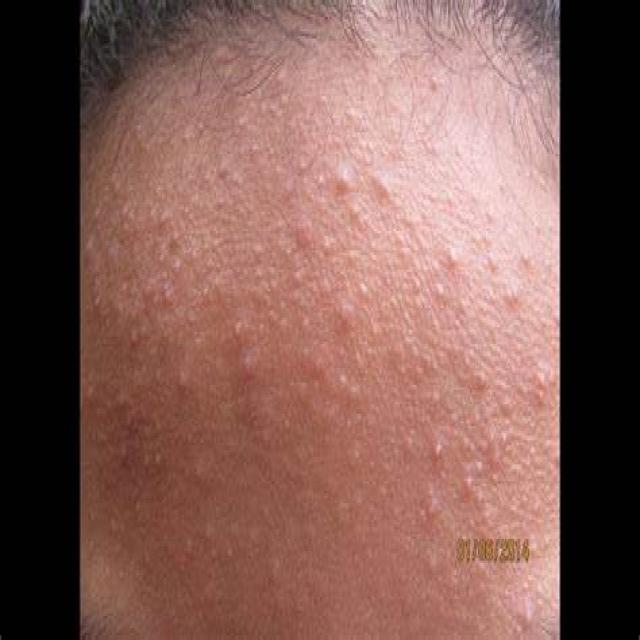fungal: (82, 108, 557, 611)
